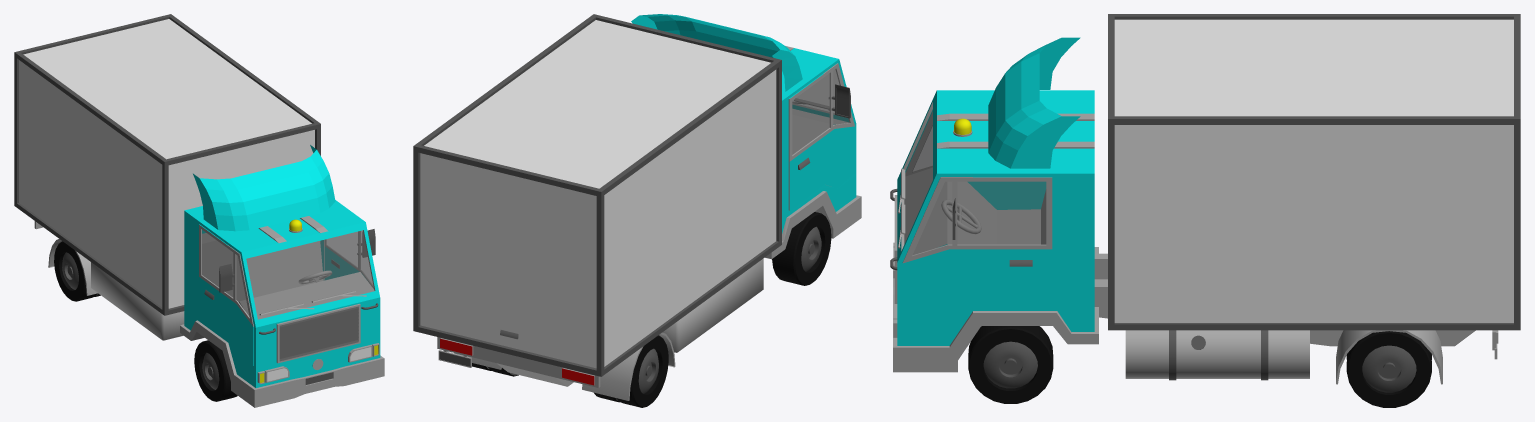
File: Truck.fbx
3 renders of one model, left to right at view 1: azimuth 30°, elevation 25°; view 2: azimuth 150°, elevation 25°; view 3: azimuth 270°, elevation 25°, orthographic. The views are drawn at different scales.
Visible parts, largest first — view 1: 1, cabin, grill, Cube, front_wheel_right, back_wheel_right, mirrors, headlights, 1_2; view 2: 1, cabin, Cube, front_wheel_right, back_wheel_right, 1_2, back_bumper, taillights, mirrors; view 3: 1, cabin, fuel_reservior, front_wheel_left, back_wheel_left, 1_2, Cylinder_2.
Part boxes in pixels (bbox=[...]): 1: bbox=[14, 14, 320, 315]; cabin: bbox=[180, 145, 384, 407]; grill: bbox=[276, 304, 360, 363]; Cube: bbox=[91, 262, 184, 340]; front_wheel_right: bbox=[194, 340, 237, 401]; back_wheel_right: bbox=[54, 241, 100, 301]; mirrors: bbox=[219, 229, 375, 292]; headlights: bbox=[265, 344, 372, 382]; 1_2: bbox=[48, 239, 97, 295]; 1: bbox=[413, 14, 781, 376]; cabin: bbox=[497, 14, 861, 386]; Cube: bbox=[662, 258, 763, 352]; front_wheel_right: bbox=[772, 212, 831, 285]; back_wheel_right: bbox=[594, 335, 668, 407]; 1_2: bbox=[454, 332, 675, 400]; back_bumper: bbox=[437, 337, 600, 387]; taillights: bbox=[440, 338, 594, 385]; mirrors: bbox=[828, 84, 850, 118]; 1: bbox=[1108, 14, 1520, 330]; cabin: bbox=[893, 37, 1475, 372]; fuel_reservior: bbox=[1125, 330, 1309, 380]; front_wheel_left: bbox=[968, 326, 1053, 403]; back_wheel_left: bbox=[1346, 331, 1431, 407]; 1_2: bbox=[1336, 330, 1442, 384]; Cylinder_2: bbox=[941, 199, 981, 234].
Bounding box in the file's own units: 201 × 261 × 508.
